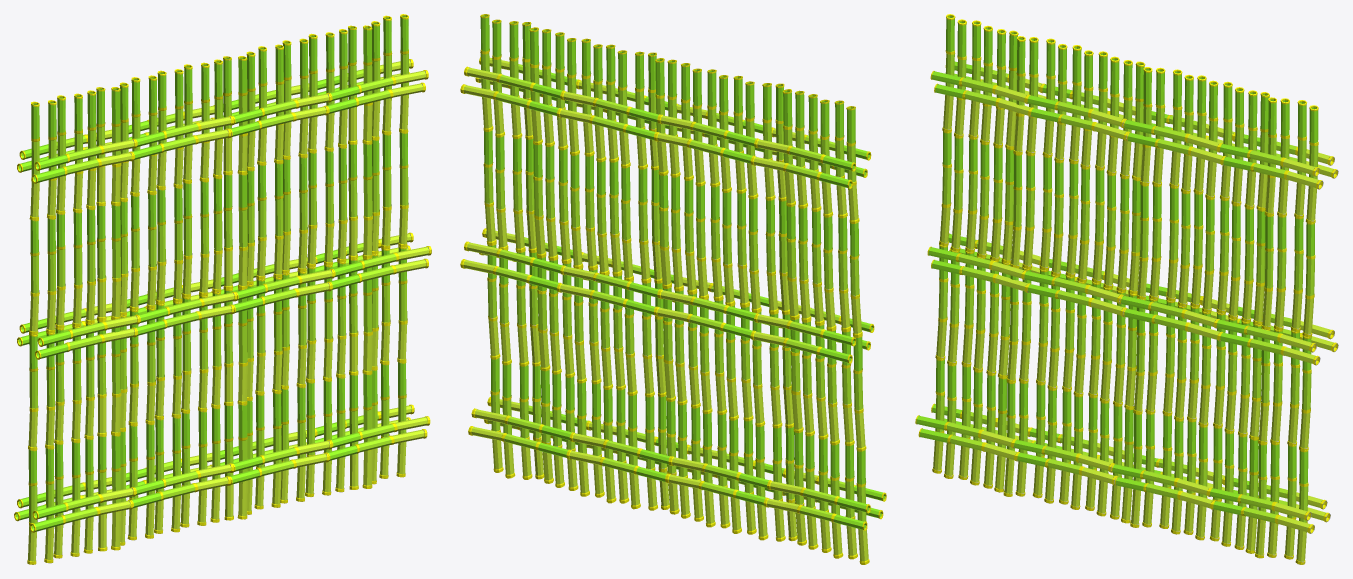
File: BambooWalls.fbx
3 views of the same model, side by side, from view 1: azimuth 30°, elevation 25°; view 2: azimuth 150°, elevation 25°; view 3: azimuth 330°, elevation 25° (orthographic).
Parts seen in each view (by area): view 1: group4_pasted__pasted__polySurface502; view 2: group4_pasted__pasted__polySurface502; view 3: group4_pasted__pasted__polySurface502.
Part boxes in pixels (bbox=[...]): group4_pasted__pasted__polySurface502: bbox=[14, 14, 431, 564]; group4_pasted__pasted__polySurface502: bbox=[460, 14, 886, 564]; group4_pasted__pasted__polySurface502: bbox=[915, 14, 1338, 564].
Size of the model in its own units: 7.12 by 7.8 by 0.9284.
